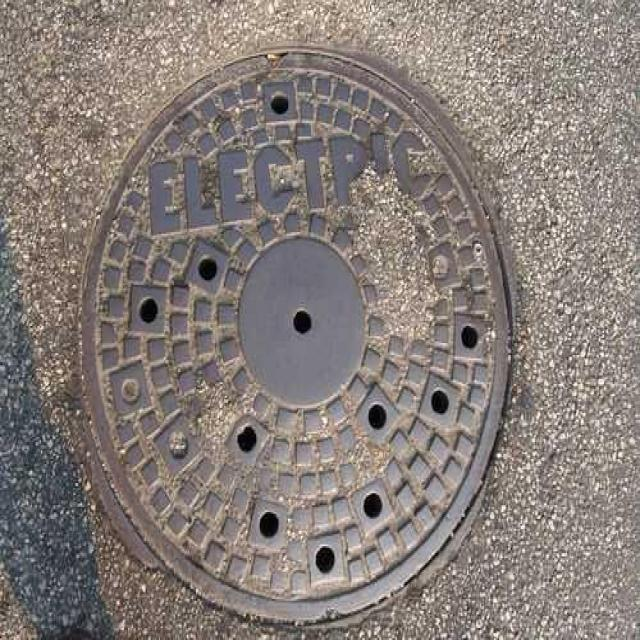manhole: (84, 48, 510, 622)
